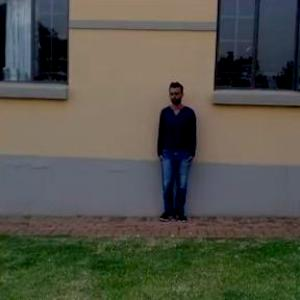follow: (156, 80, 198, 221)
